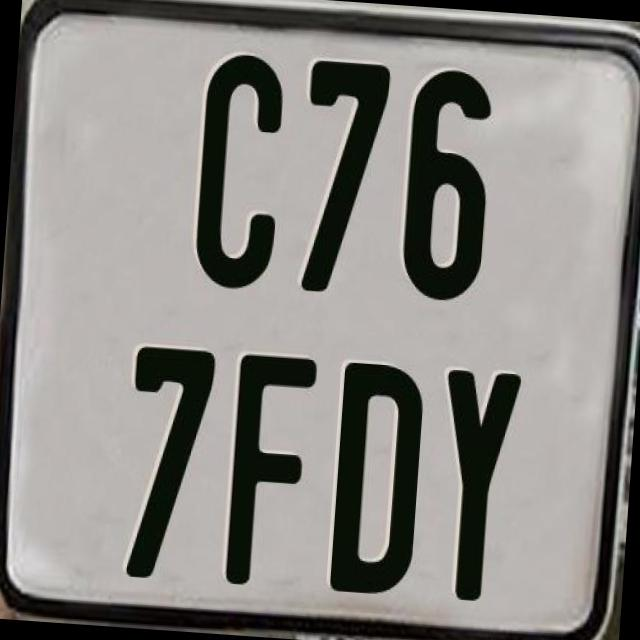6: (395, 65, 491, 309)
7: (290, 59, 390, 304), (116, 344, 214, 589)
C: (188, 52, 290, 296)
D: (328, 358, 426, 596)
F: (219, 352, 314, 598)
Y: (430, 369, 526, 606)
